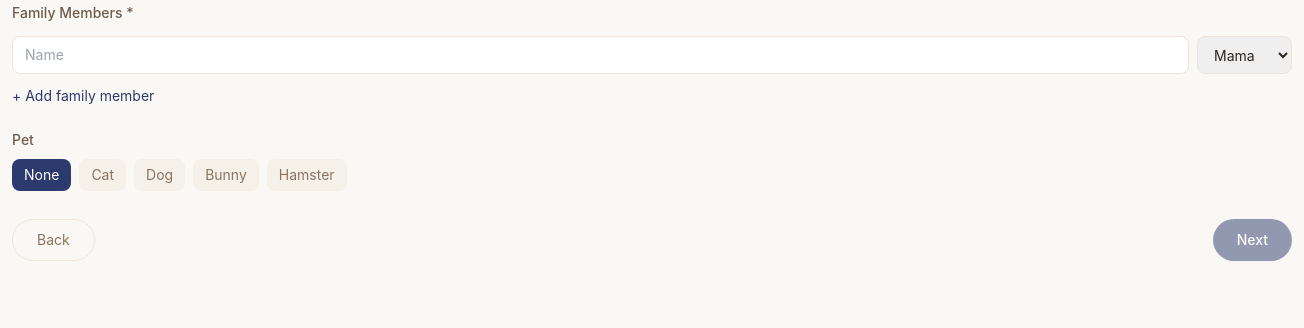
FamilyStep › removes a family member
The image size is (1304, 328).
Click the button with test id "add-member".
click(83, 96)  # box [12,86,154,106]
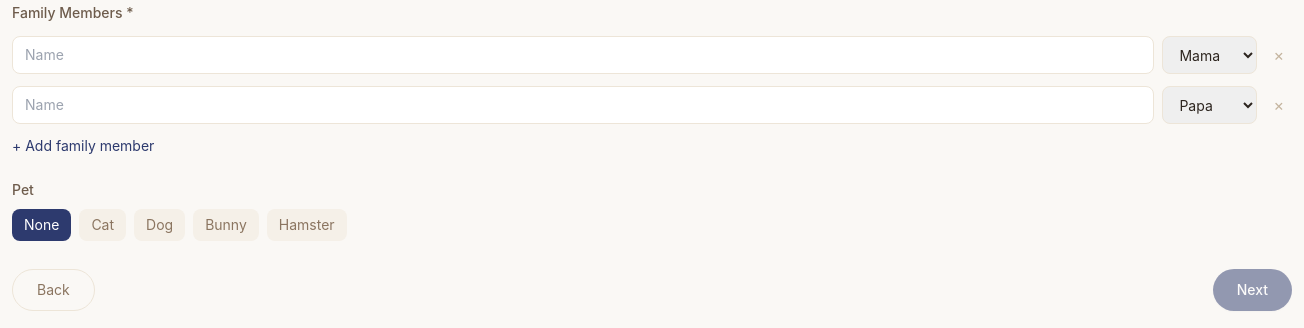
Now the element with test id "family-member-1" is shown, box [12,86,1292,124]
Click the button with test id "remove-member-1".
click(1279, 105)  # box [1265,86,1292,124]
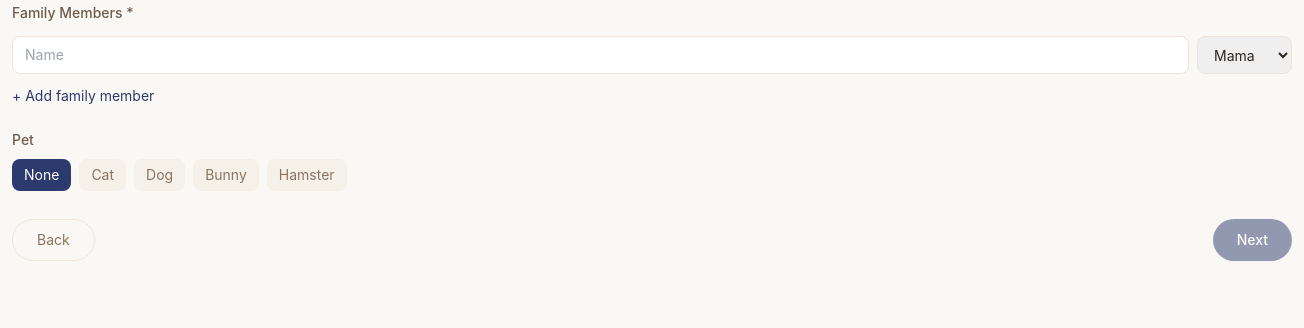
Now the element with test id "family-member-1" is gone
